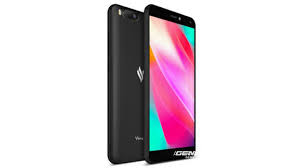vsmart: (103, 1, 198, 164)
